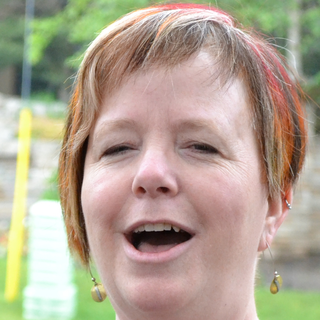eye: (178, 138, 228, 162), (98, 138, 141, 162)
